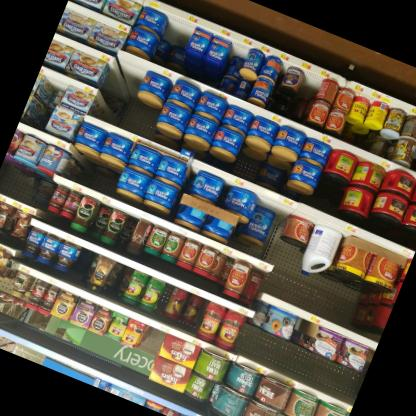empty_space: (94, 51, 147, 125)
